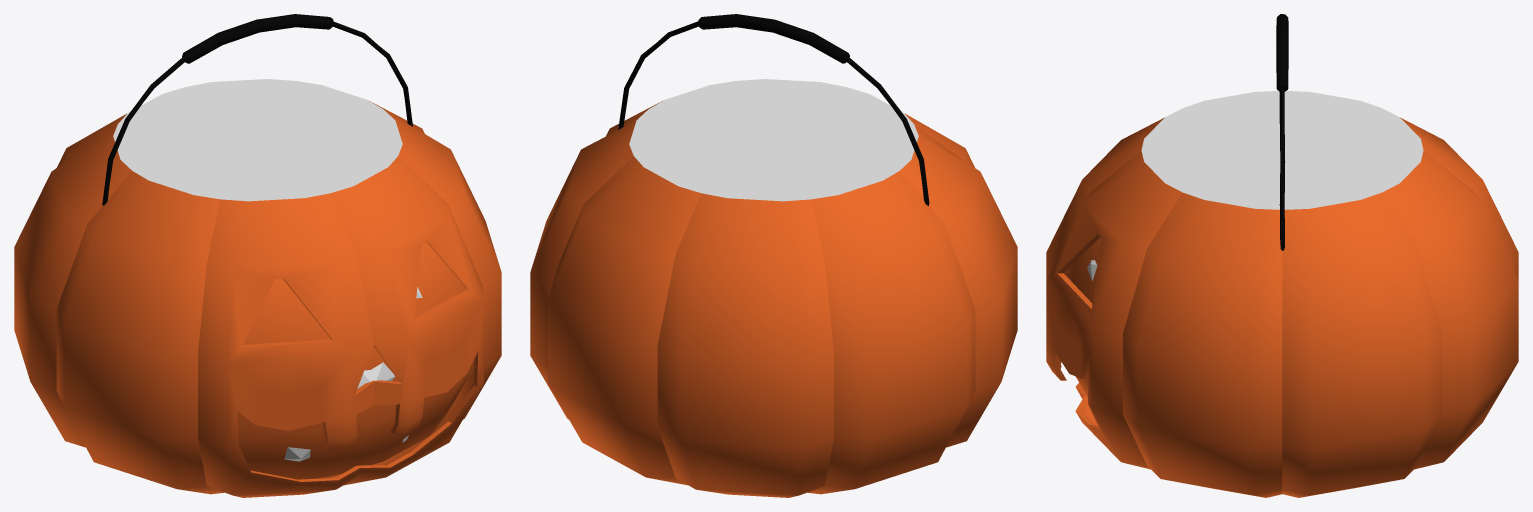
The model's file is PumpkinPail.fbx.
3 views of the same model, side by side, from view 1: azimuth 30°, elevation 25°; view 2: azimuth 150°, elevation 25°; view 3: azimuth 270°, elevation 25° (orthographic). The views are drawn at different scales.
Parts seen in each view (by area): view 1: Pail, Lid, Handle; view 2: Pail, Lid, Handle; view 3: Pail, Lid, Handle.
Part boxes in pixels (left/top/right/bottom): Pail: left=14, top=101, right=501, bottom=497; Lid: left=113, top=79, right=402, bottom=201; Handle: left=102, top=14, right=412, bottom=205; Pail: left=530, top=101, right=1017, bottom=497; Lid: left=629, top=79, right=918, bottom=201; Handle: left=618, top=14, right=929, bottom=205; Pail: left=1046, top=117, right=1518, bottom=497; Lid: left=1141, top=91, right=1423, bottom=209; Handle: left=1276, top=14, right=1288, bottom=250.
Bounding box in the file's own units: 1.65 × 1.65 × 1.65.
